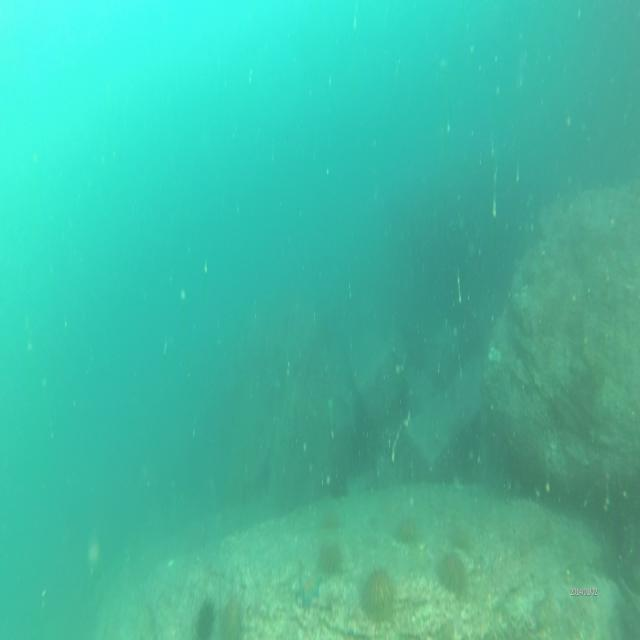echinus: (361, 563, 395, 616), (439, 555, 469, 596), (316, 535, 346, 576), (225, 596, 244, 640), (198, 594, 216, 637), (398, 514, 414, 544), (327, 476, 351, 495)
